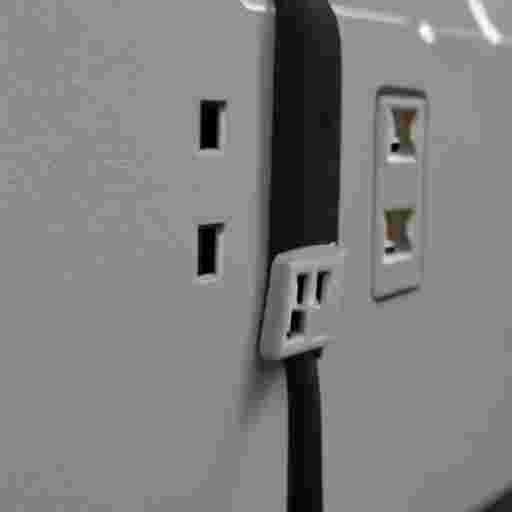power outlet: (372, 86, 426, 298), (260, 243, 346, 359)
